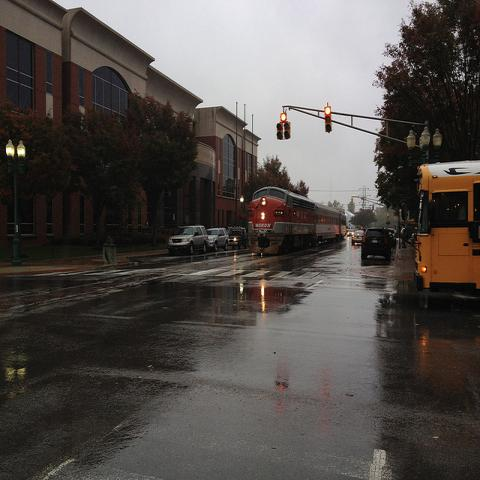bus: (415, 158, 480, 292)
car: (166, 224, 210, 254), (352, 228, 391, 260), (206, 227, 230, 253), (227, 225, 248, 249), (347, 231, 354, 237)
truck: (168, 225, 210, 256), (206, 227, 229, 253), (228, 228, 249, 250)
